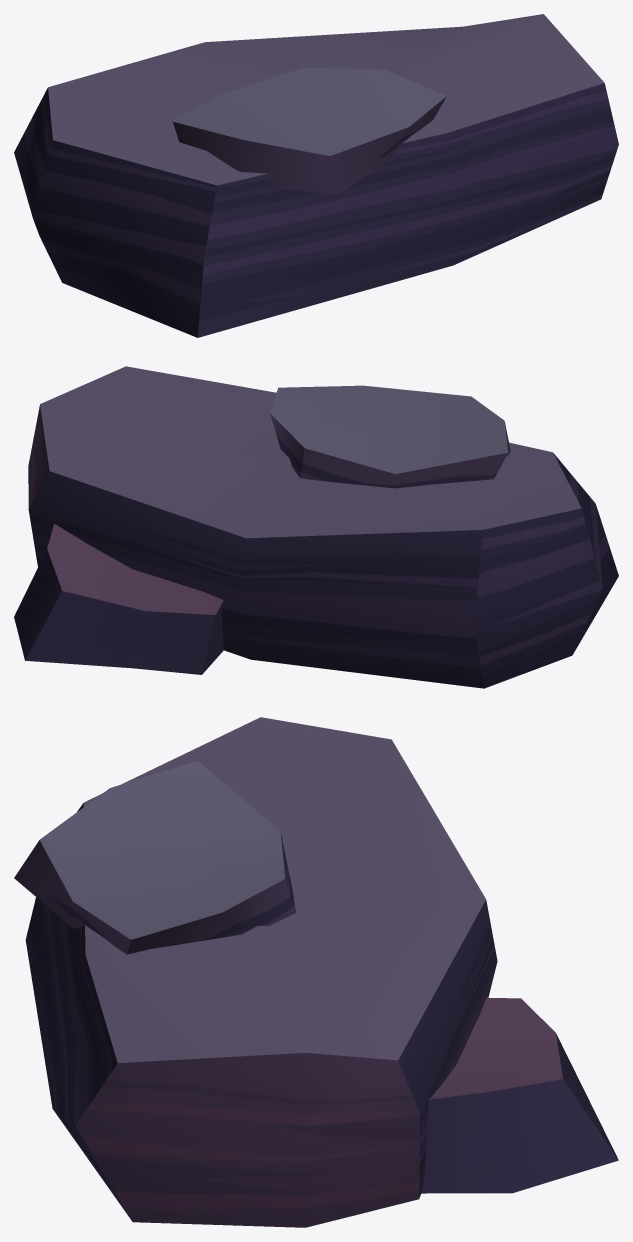
File: Rock_02.FBX
3 renders of one model, top to bottom at view 1: azimuth 30°, elevation 25°; view 2: azimuth 150°, elevation 25°; view 3: azimuth 270°, elevation 25°, orthographic. The views are drawn at different scales.
Visible parts, largest first — view 1: Rock_02; view 2: Rock_02; view 3: Rock_02.
Part boxes in pixels (box(x1,y1,x2,y2)): Rock_02: box(14, 14, 618, 337); Rock_02: box(14, 366, 618, 688); Rock_02: box(14, 717, 618, 1227).
Bounding box in the file's own units: 95.1 × 26.61 × 71.06.
